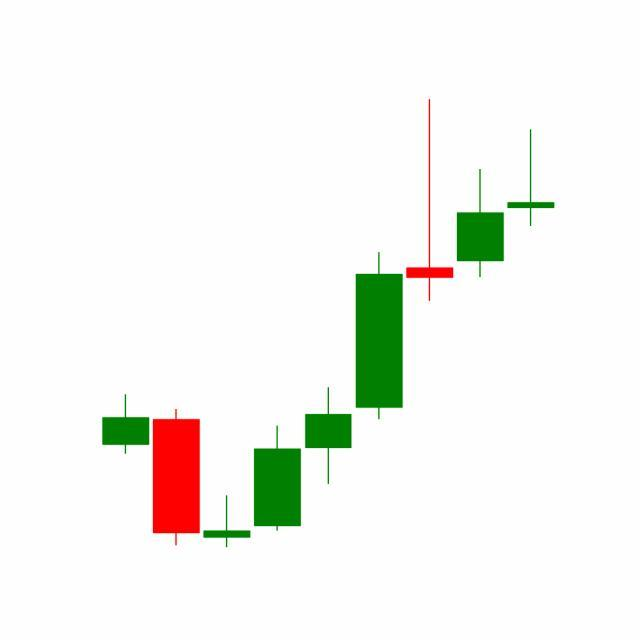Hikkake Pattern: (302, 100, 555, 490)
